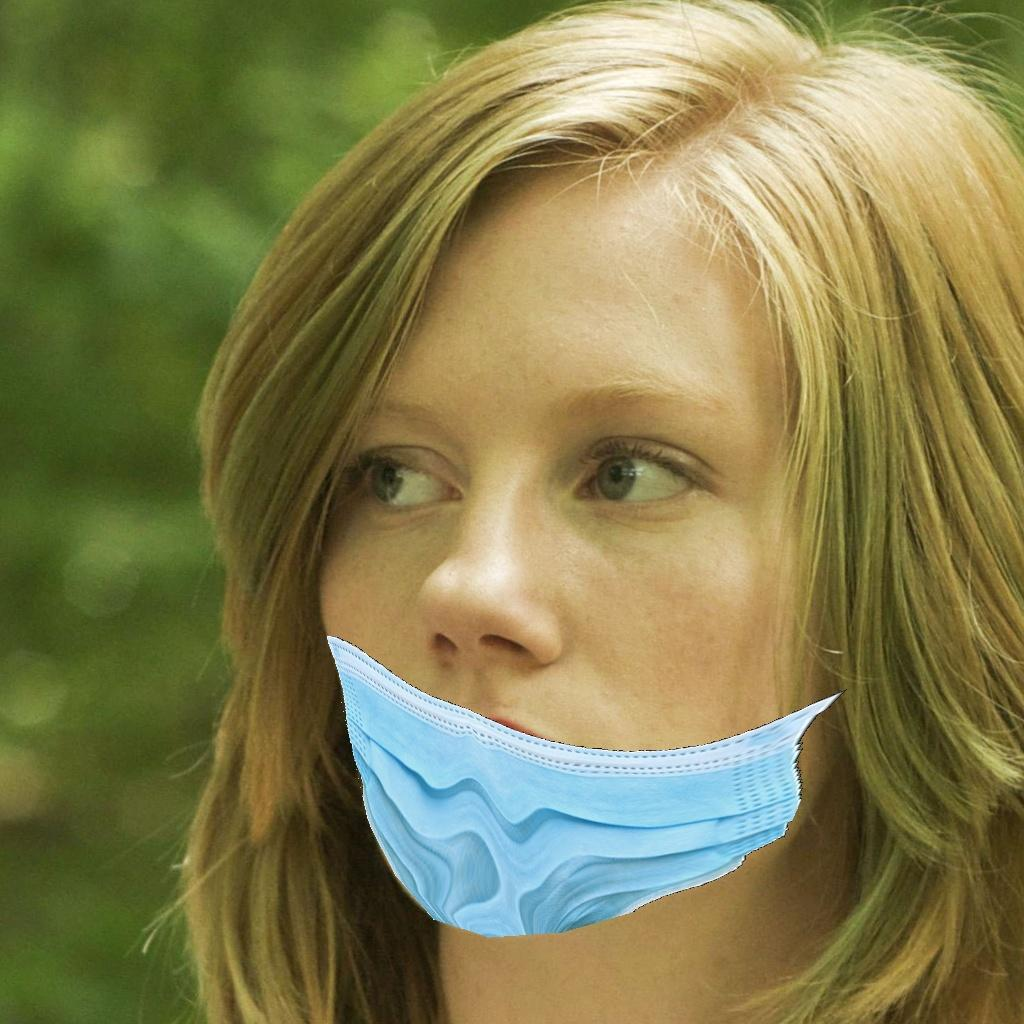Máscara Incorreta: (313, 244, 836, 919)
